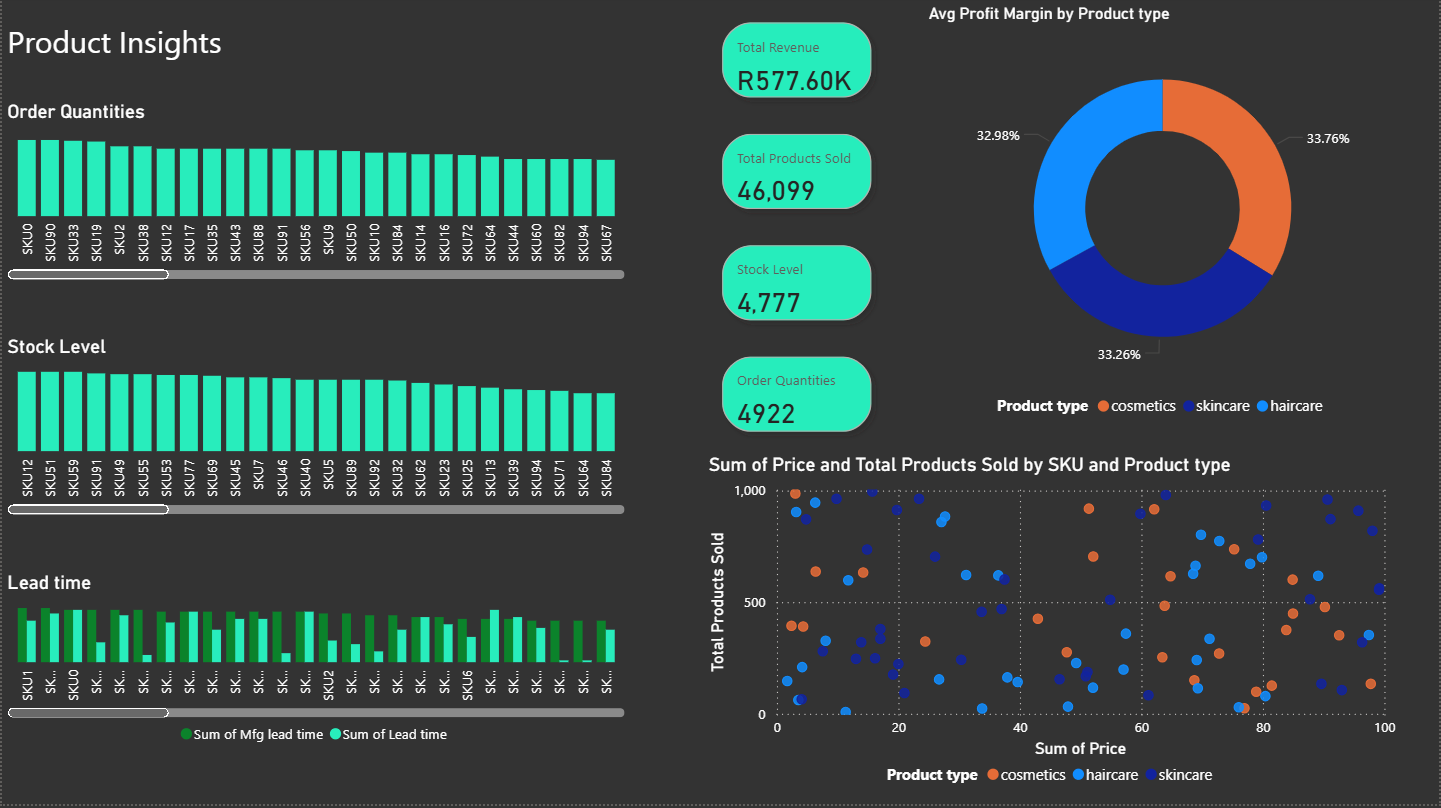

Layout of this report page (visuals, bound fields, positions):
{"tool":"powerbi","page":{"name":"Products","canvas":[1280,720],"ordinal":1},"visuals":[{"type":"columnChart","title":"Order Quantities","fields":{"Y":["_Measures.Order Quantities"],"Category":["supply_chain_data.SKU"]},"box":[0,92.5,559.6,164.8],"z":0},{"type":"columnChart","title":"Stock Level","fields":{"Category":["supply_chain_data.SKU"],"Y":["_Measures.Stock Level"]},"box":[0,302.2,559.6,164.8],"z":1000},{"type":"clusteredColumnChart","title":"Lead time","fields":{"Category":["supply_chain_data.SKU"],"Y":["Sum(supply_chain_data.Mfg lead time)","Sum(supply_chain_data.Lead time)"]},"box":[0,511.9,559.6,163.4],"z":2000},{"type":"cardVisual","fields":{"Data":["_Measures.Total Revenue","_Measures.Total Products Sold","_Measures.Stock Level","_Measures.Order Quantities"]},"box":[624.7,7.2,167.7,400.5],"z":3000},{"type":"donutChart","fields":{"Y":["_Measures.Avg Profit Margin"],"Category":["supply_chain_data.Product type"]},"box":[819.9,7.2,426.6,377.4],"z":4000},{"type":"scatterChart","fields":{"Category":["supply_chain_data.SKU"],"X":["Sum(supply_chain_data.Price)"],"Y":["_Measures.Total Products Sold"],"Series":["supply_chain_data.Product type"]},"box":[624.7,407.8,621.8,305.1],"z":5000},{"type":"textbox","box":[0,0,559.6,92.5],"z":6000}]}

Visuals, with their boxes in screenshot pixels (x1, y1, x2, y2), scaled from the page's 1280x720 canvas onto the 1441x808 screenshot:
"Order Quantities" columnChart: detection(0, 104, 630, 289)
"Stock Level" columnChart: detection(0, 339, 630, 524)
"Lead time" clusteredColumnChart: detection(0, 574, 630, 758)
cardVisual - _Measures.Total Revenue x _Measures.Total Products Sold: detection(703, 8, 892, 458)
donutChart - _Measures.Avg Profit Margin x supply_chain_data.Product type: detection(923, 8, 1403, 432)
scatterChart - supply_chain_data.SKU x Sum(supply_chain_data.Price): detection(703, 458, 1403, 800)
textbox: detection(0, 0, 630, 104)
